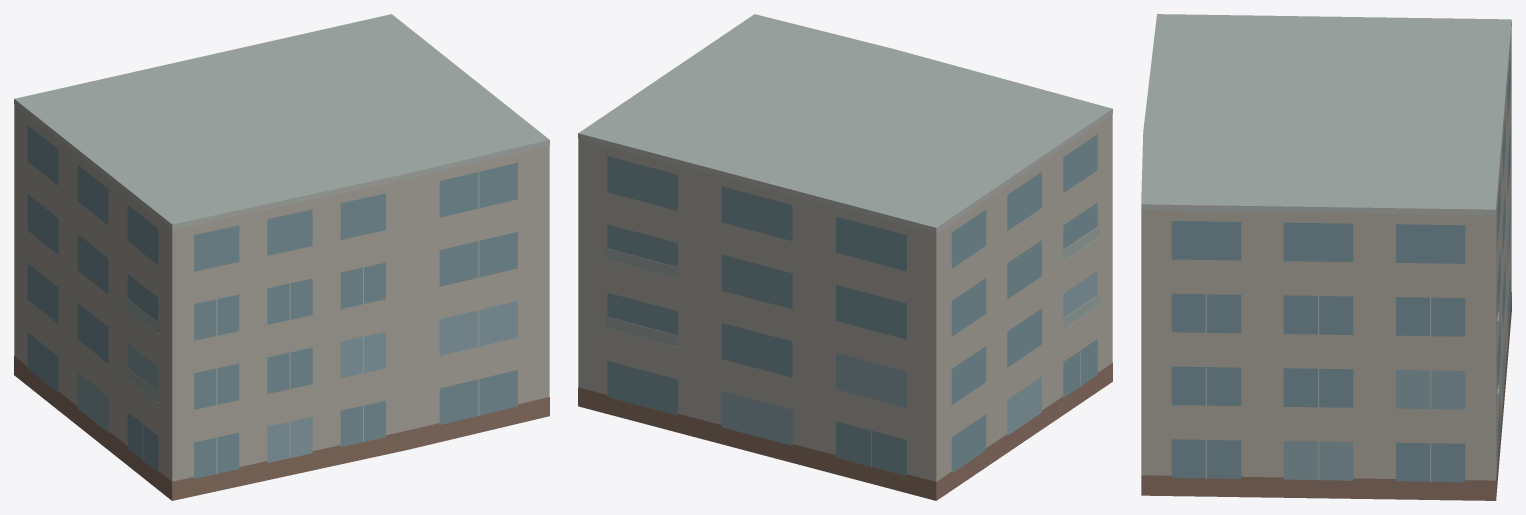
Rendered from residential-ddb66a26-7fa2-42a9-a84d-cb4b55878c54.glb.
The picture shows the model from 3 angles, left to right: view 1: azimuth 30°, elevation 25°; view 2: azimuth 150°, elevation 25°; view 3: azimuth 270°, elevation 25°; orthographic projection. The views are drawn at different scales.
Visible parts, largest first — view 1: residential-ddb66a26-7fa2-42a9-a84d-cb4b55878c54.tmp; view 2: residential-ddb66a26-7fa2-42a9-a84d-cb4b55878c54.tmp; view 3: residential-ddb66a26-7fa2-42a9-a84d-cb4b55878c54.tmp.
Boxes of the visible parts, x1,y1,x2,y2 form: residential-ddb66a26-7fa2-42a9-a84d-cb4b55878c54.tmp: (14,14,549,500); residential-ddb66a26-7fa2-42a9-a84d-cb4b55878c54.tmp: (578,14,1112,500); residential-ddb66a26-7fa2-42a9-a84d-cb4b55878c54.tmp: (1141,14,1511,500).
Bounding box in the file's own units: 17.58 × 12.2 × 14.08.
